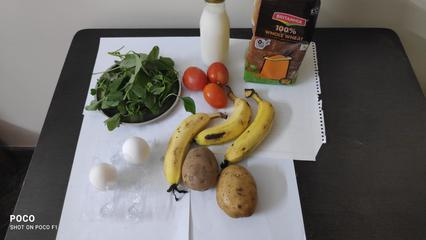banana: (201, 99, 274, 161), (167, 109, 196, 189)
bread: (250, 2, 302, 91)
eggs: (86, 132, 161, 193)
milk: (198, 5, 235, 59)
potato: (210, 166, 259, 213), (185, 147, 216, 195)
spinach: (109, 63, 166, 113)
tomato: (177, 62, 232, 106)
